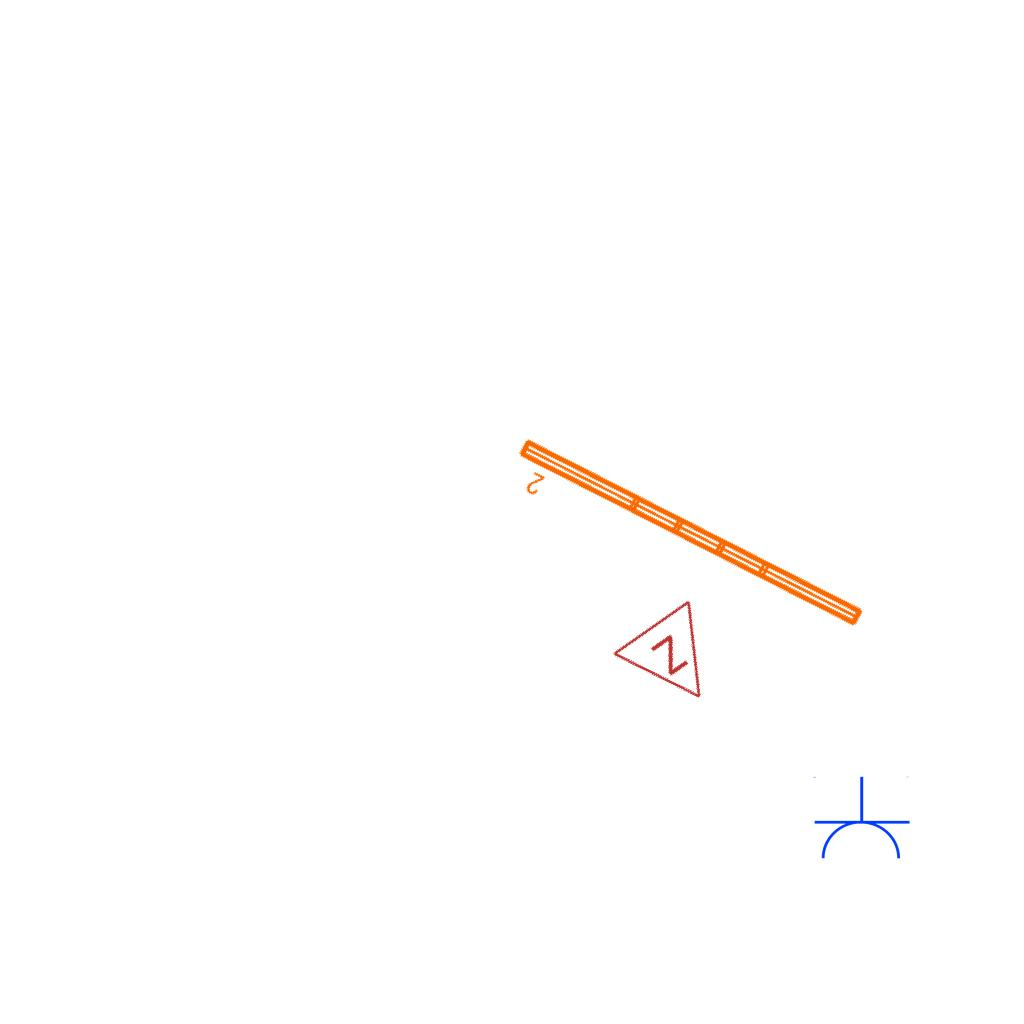Ambulanz_Pendelleuchte_LED: (500, 431, 871, 657)
Schukosteckdose_einfach: (811, 776, 911, 863)
Zimmersignalleuchte: (607, 591, 745, 731)
